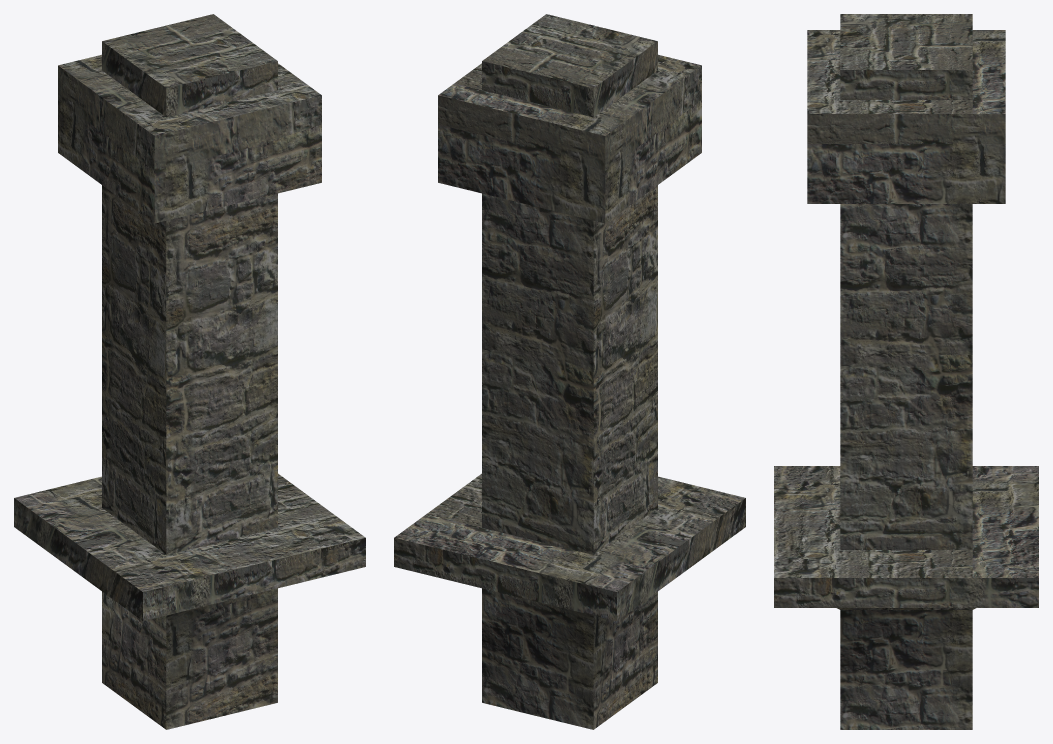
Rendered from SM_Towertop_02.FBX.
3 renders of one model, left to right at view 1: azimuth 30°, elevation 25°; view 2: azimuth 150°, elevation 25°; view 3: azimuth 270°, elevation 25°, orthographic. The views are drawn at different scales.
Parts seen in each view (by area): view 1: SM_Towertop_02; view 2: SM_Towertop_02; view 3: SM_Towertop_02.
Boxes of the visible parts, <box> form: SM_Towertop_02: <box>14,14,365,729</box>; SM_Towertop_02: <box>394,14,745,729</box>; SM_Towertop_02: <box>774,14,1038,729</box>.
Size of what is drawn, in the model's own units: 128 by 128 by 352.
